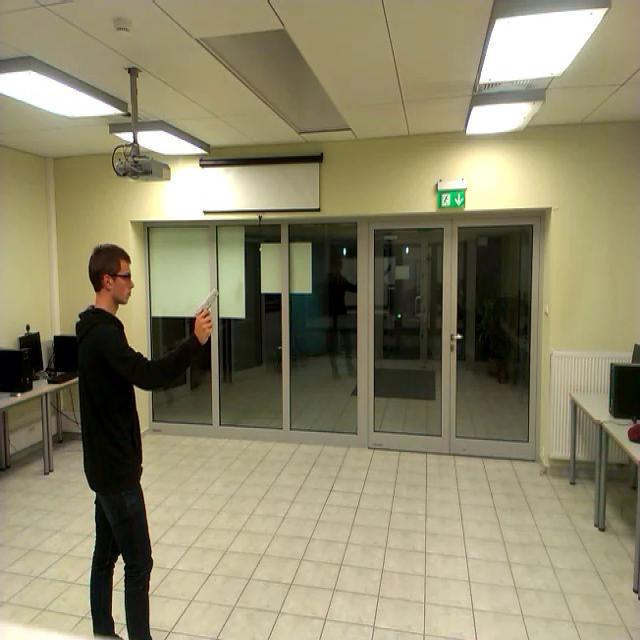Gun: (194, 286, 218, 331)
